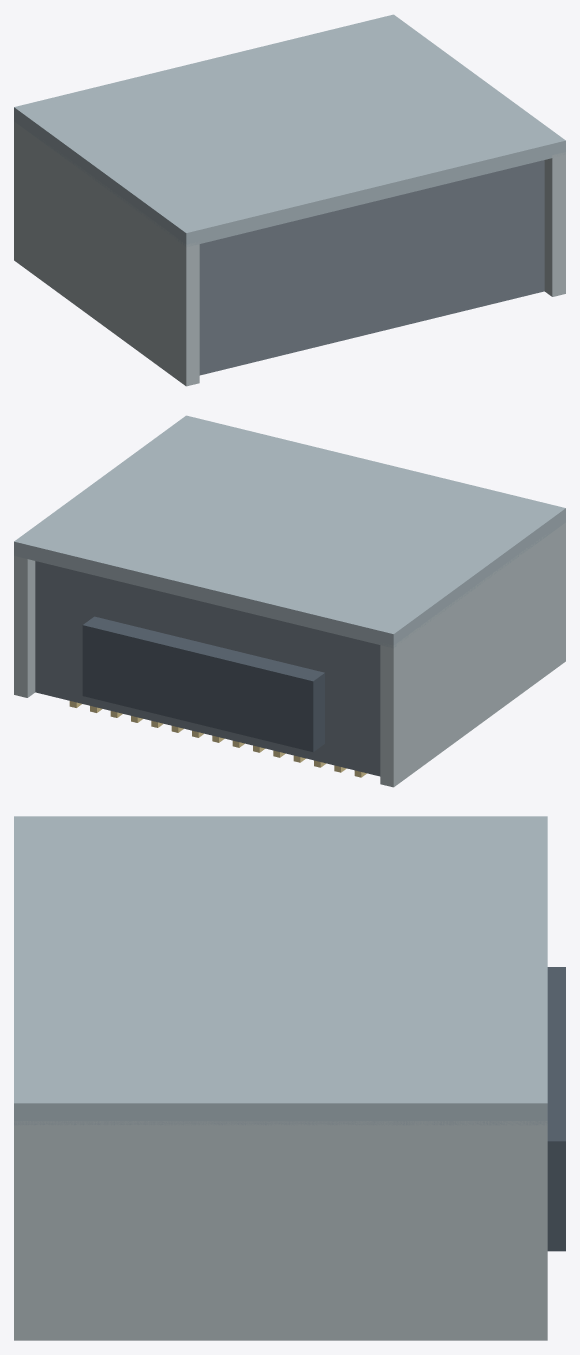
3 renders of one model, top to bottom at view 1: azimuth 30°, elevation 25°; view 2: azimuth 150°, elevation 25°; view 3: azimuth 270°, elevation 25°, orthographic. The views are drawn at different scales.
Visible parts, largest first — view 1: 0001__PSMAT__shield_matte, 0000__PSMAT__connector_insulator, 0002__PSMAT__brushed_steel, 0003__PSMAT__brushed_steel; view 2: 0001__PSMAT__shield_matte, 0002__PSMAT__brushed_steel, 0000__PSMAT__connector_insulator, 0019__PSMAT__connector_black, 0003__PSMAT__brushed_steel; view 3: 0001__PSMAT__shield_matte, 0003__PSMAT__brushed_steel, 0019__PSMAT__connector_black.
Boxes of the visible parts, x1=… form: 0001__PSMAT__shield_matte: x1=14, y1=14, x2=565, y2=247; 0000__PSMAT__connector_insulator: x1=199, y1=160, x2=544, y2=375; 0002__PSMAT__brushed_steel: x1=14, y1=121, x2=199, y2=386; 0003__PSMAT__brushed_steel: x1=544, y1=152, x2=565, y2=296; 0001__PSMAT__shield_matte: x1=14, y1=415, x2=565, y2=648; 0002__PSMAT__brushed_steel: x1=380, y1=522, x2=565, y2=787; 0000__PSMAT__connector_insulator: x1=35, y1=561, x2=380, y2=776; 0019__PSMAT__connector_black: x1=82, y1=616, x2=324, y2=751; 0003__PSMAT__brushed_steel: x1=14, y1=553, x2=35, y2=697; 0001__PSMAT__shield_matte: x1=14, y1=816, x2=547, y2=1125; 0003__PSMAT__brushed_steel: x1=14, y1=1121, x2=547, y2=1340; 0019__PSMAT__connector_black: x1=547, y1=967, x2=565, y2=1251.
Size of the model in its own units: 0.028 by 0.0115 by 0.0227.
